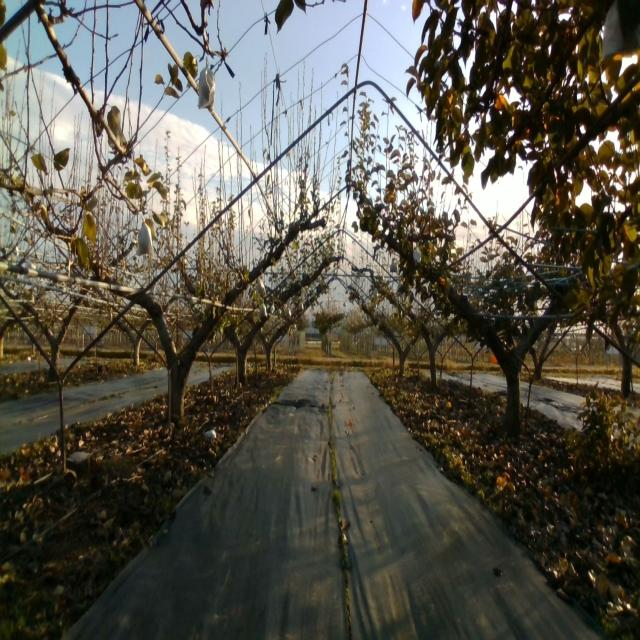pearbags: (197, 55, 216, 114), (136, 215, 154, 258)
